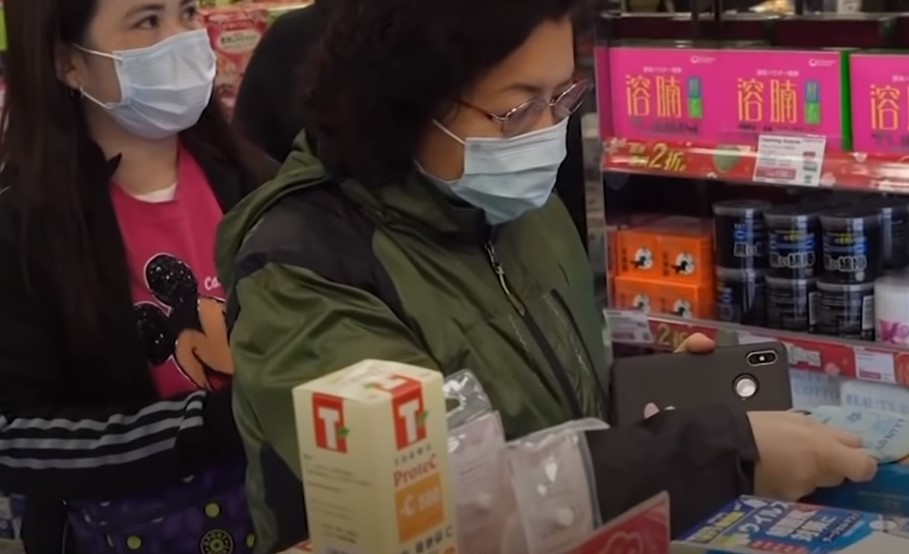face_with_mask: (358, 0, 598, 234), (28, 0, 219, 144)
